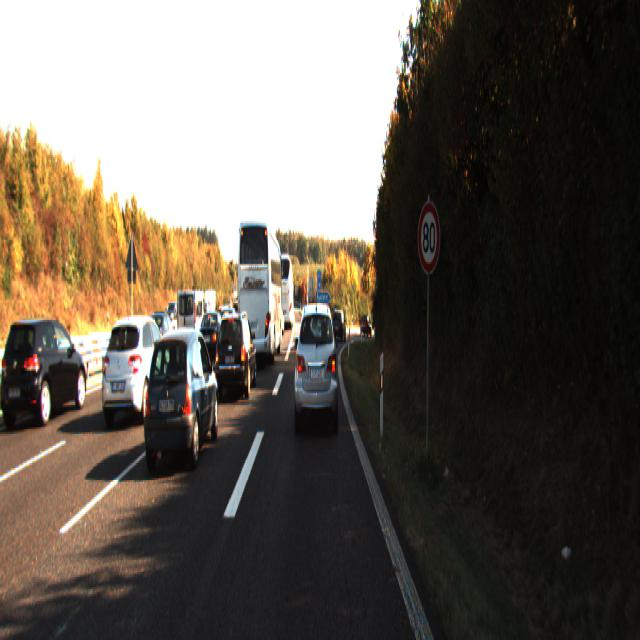Car: (140, 324, 220, 476), (0, 315, 89, 431), (100, 312, 172, 430), (236, 217, 282, 370), (294, 300, 339, 436), (214, 310, 258, 400), (176, 288, 208, 354), (278, 256, 294, 331), (331, 310, 346, 342), (360, 314, 372, 338)
